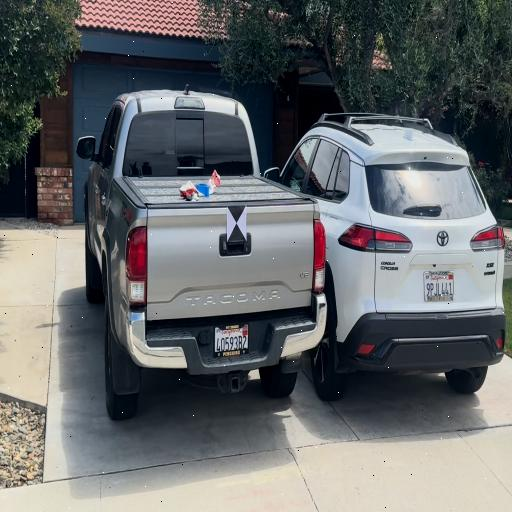target: (226, 206, 246, 240)
